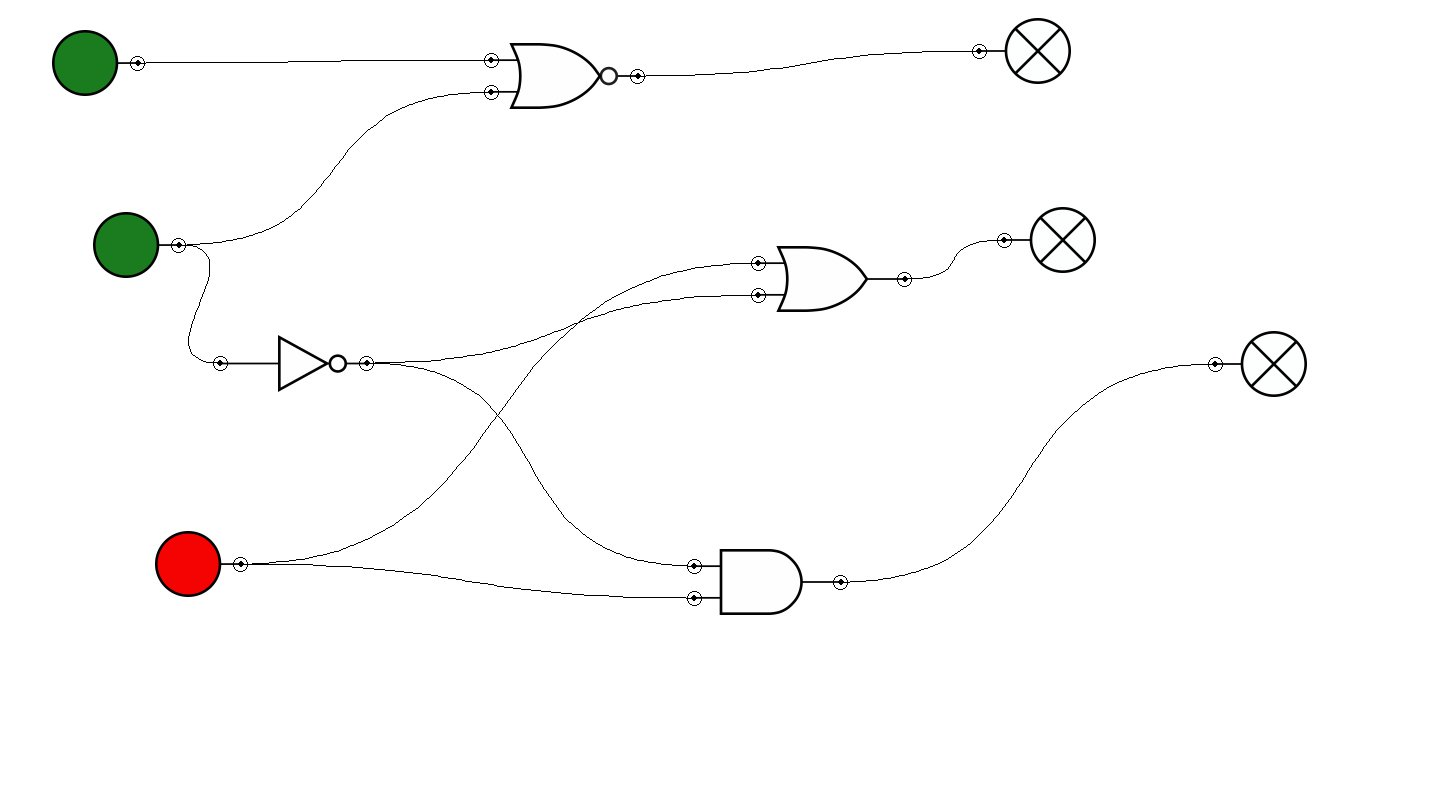and: (687, 549, 848, 615)
bulb: (972, 18, 1071, 84), (997, 207, 1096, 273), (1208, 331, 1307, 397)
nor: (484, 43, 645, 109)
not: (213, 335, 374, 392)
or: (751, 246, 912, 312)
switch_False: (155, 531, 248, 597)
switch_True: (93, 212, 186, 278), (52, 30, 145, 96)
